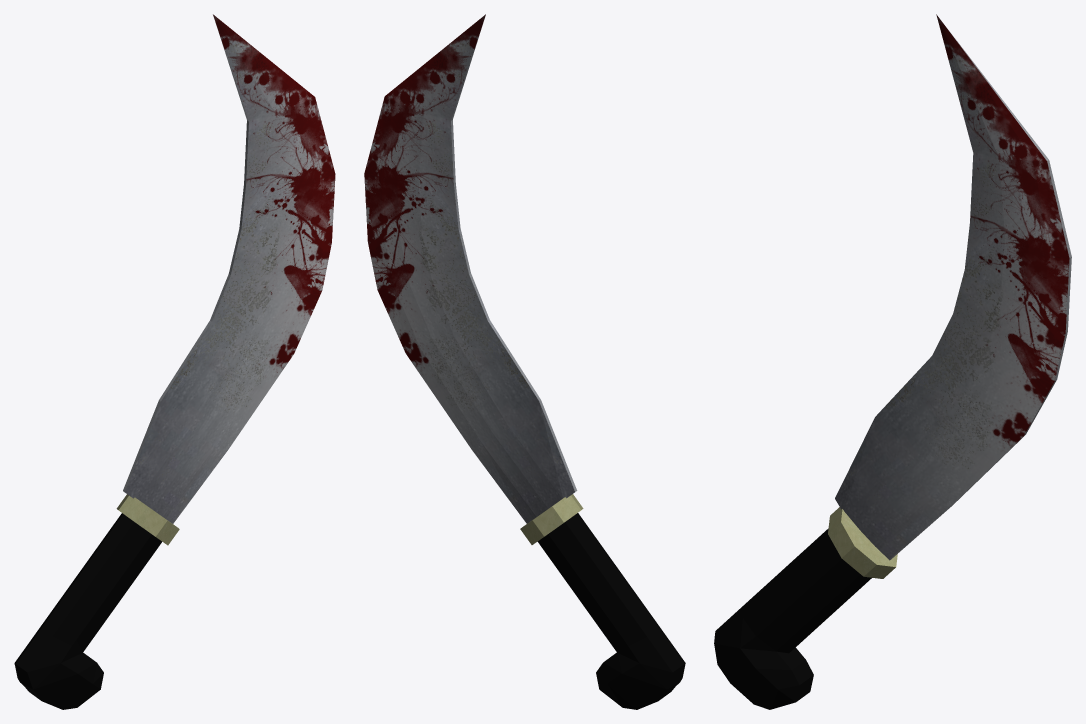
Rendered from Creepy_Knife.FBX.
3 views of the same model, side by side, from view 1: azimuth 30°, elevation 25°; view 2: azimuth 150°, elevation 25°; view 3: azimuth 330°, elevation 25° (orthographic). The views are drawn at different scales.
Parts seen in each view (by area): view 1: Line020, Cylinder074, Head; view 2: Line020, Cylinder074, Head; view 3: Line020, Cylinder074, Head.
Boxes of the visible parts, x1,y1,x2,y2 form: Line020: (123, 14, 335, 523); Cylinder074: (14, 513, 161, 709); Head: (116, 494, 179, 545); Line020: (364, 14, 577, 523); Cylinder074: (537, 513, 685, 709); Head: (520, 494, 583, 544); Line020: (835, 14, 1071, 560); Cylinder074: (714, 528, 871, 709); Head: (828, 507, 897, 578).
Size of the model in its own units: 141 by 276 by 20.52.
